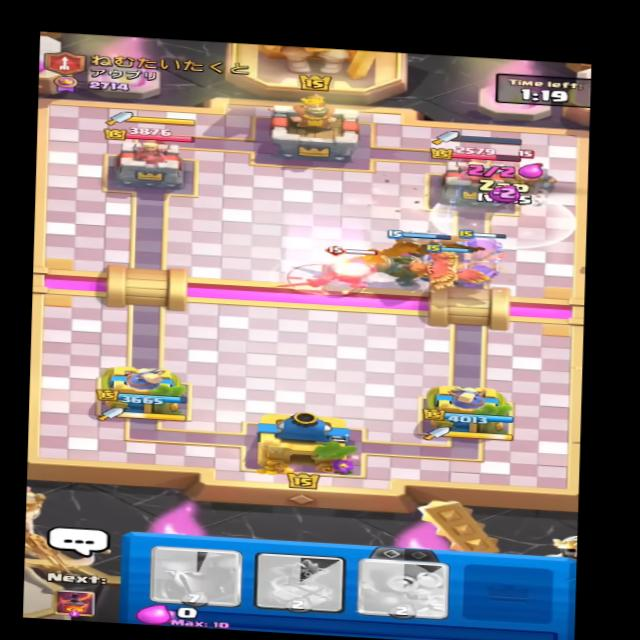evo-knight: (321, 242, 390, 289)
prince: (490, 152, 564, 204)
